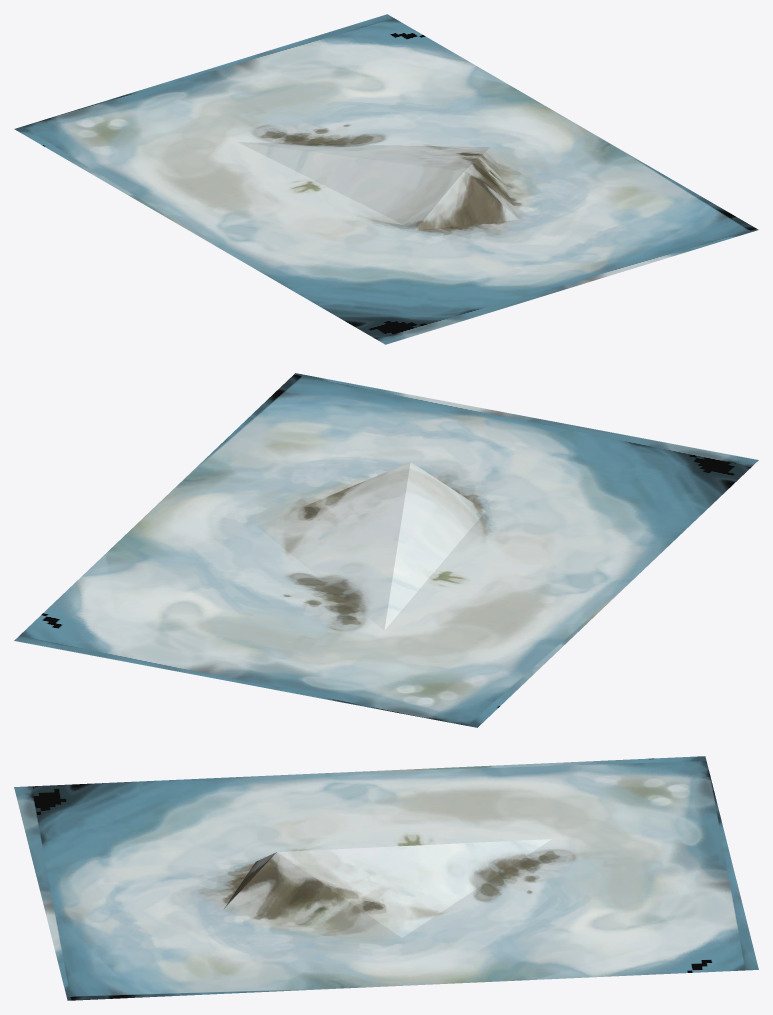
File: snowydecal_02.fbx
3 views of the same model, one above another, from view 1: azimuth 30°, elevation 25°; view 2: azimuth 150°, elevation 25°; view 3: azimuth 270°, elevation 25° (orthographic). The views are drawn at different scales.
Parts seen in each view (by area): view 1: obj0.031; view 2: obj0.031; view 3: obj0.031.
Part boxes in pixels (bbox=[...]): obj0.031: bbox=[14, 14, 758, 344]; obj0.031: bbox=[14, 373, 758, 727]; obj0.031: bbox=[14, 756, 758, 1000].
Bounding box in the file's own units: 2.41 × 0.1899 × 3.1.
